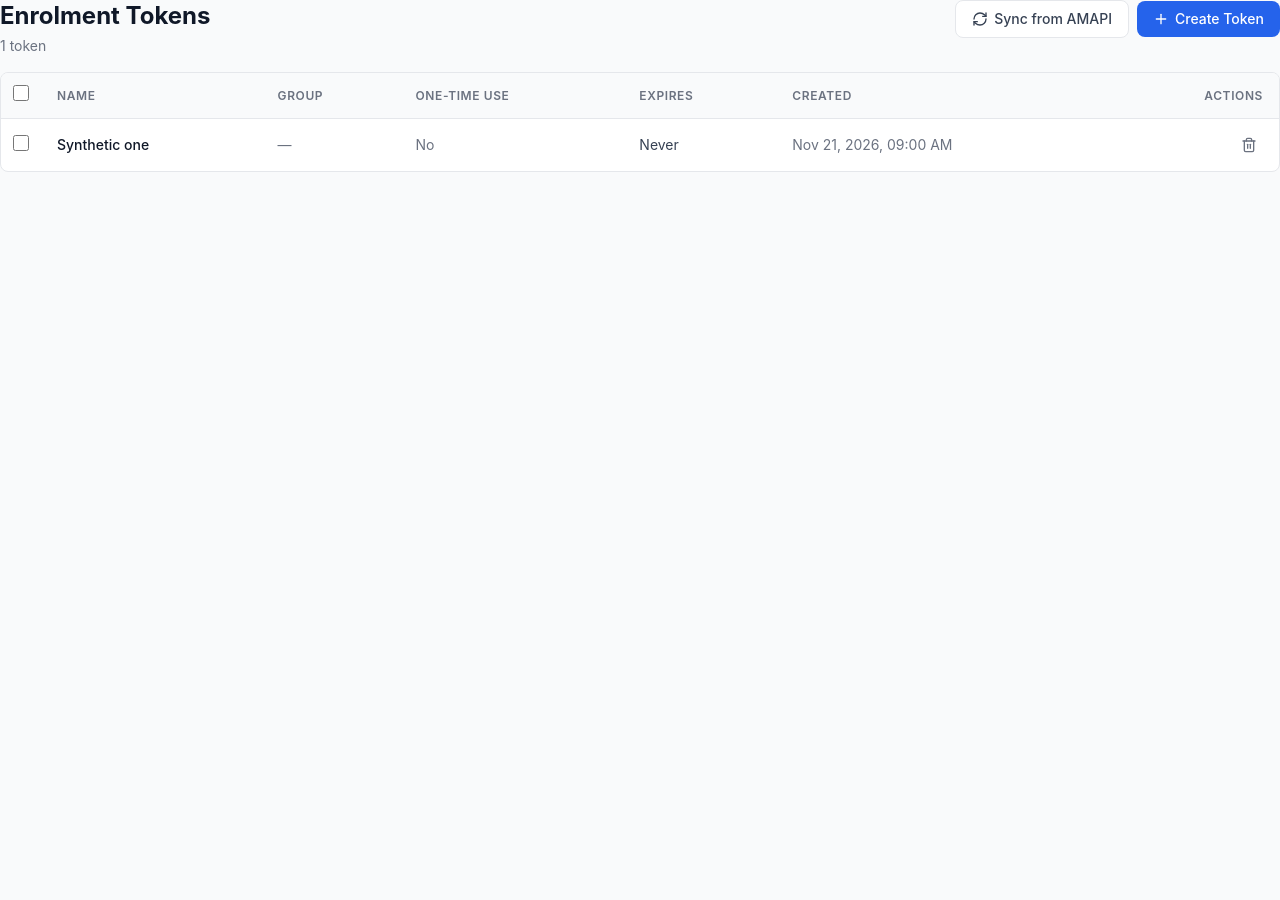
Test: existing enrolment token handoff › supports the old value field only when the canonical field is absent
The image size is (1280, 900).
What coordinates should you click on to do the following:
click the button with aria-label "Open enrolment token Synthetic one"
I would click on:
 (640, 145)
Its box is [1,118,1279,171].
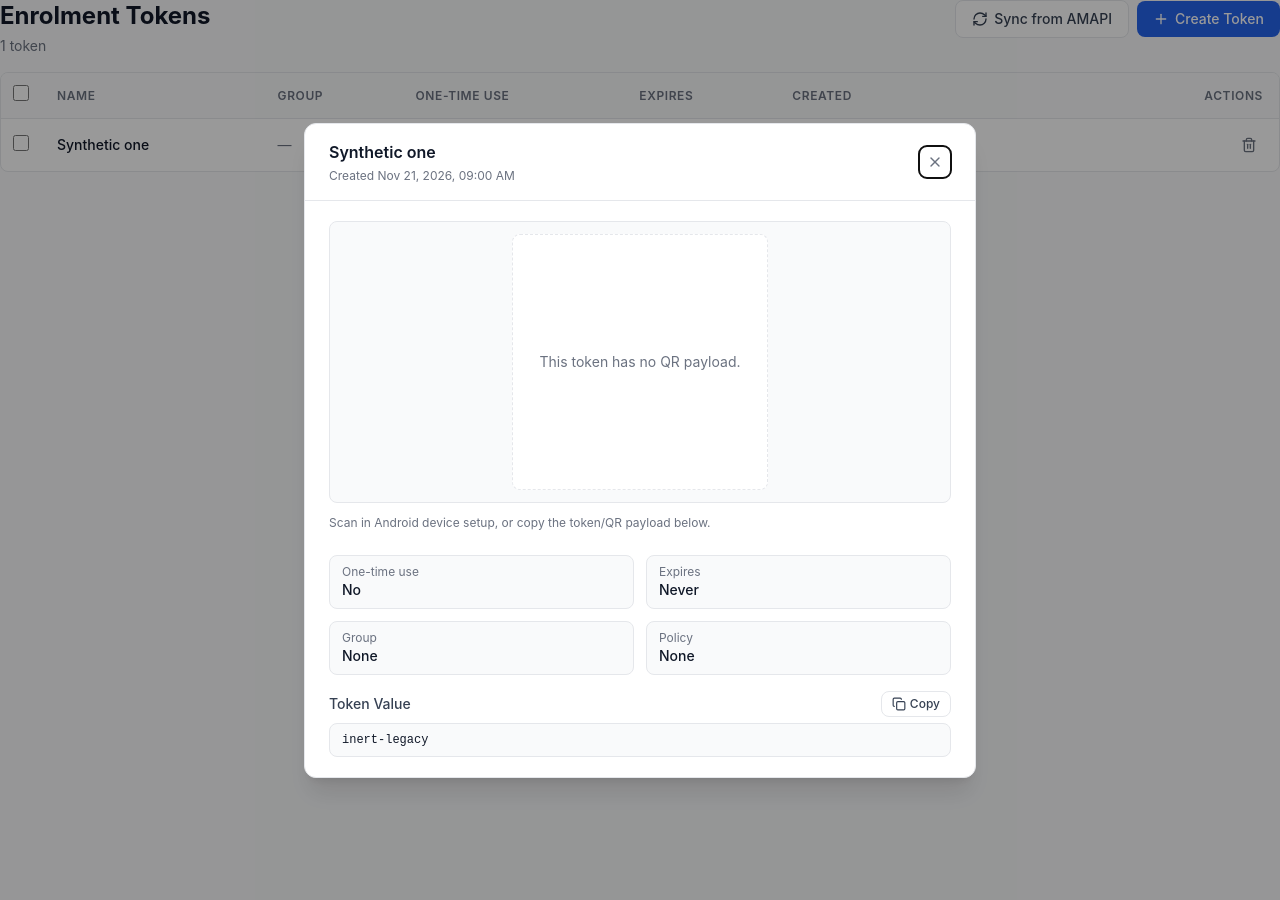
Now the dialog is shown, box [304,122,976,778]
Now the text "inert-legacy" is shown, box [329,722,951,756]
